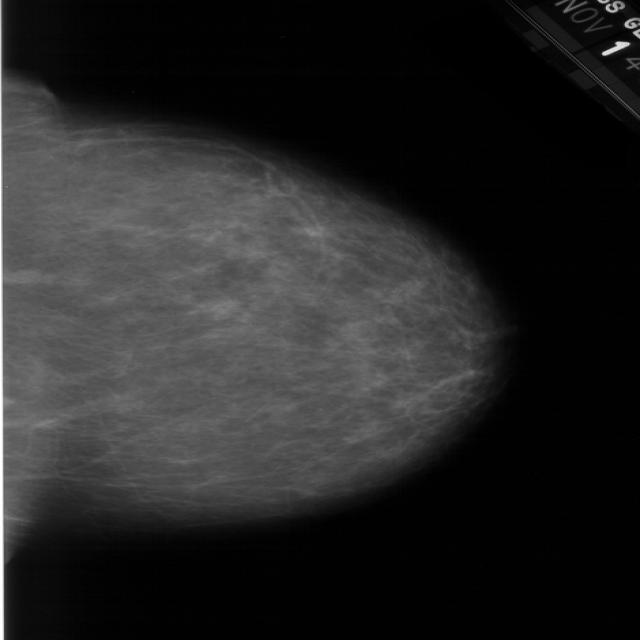tumour: (1, 269, 38, 285)
